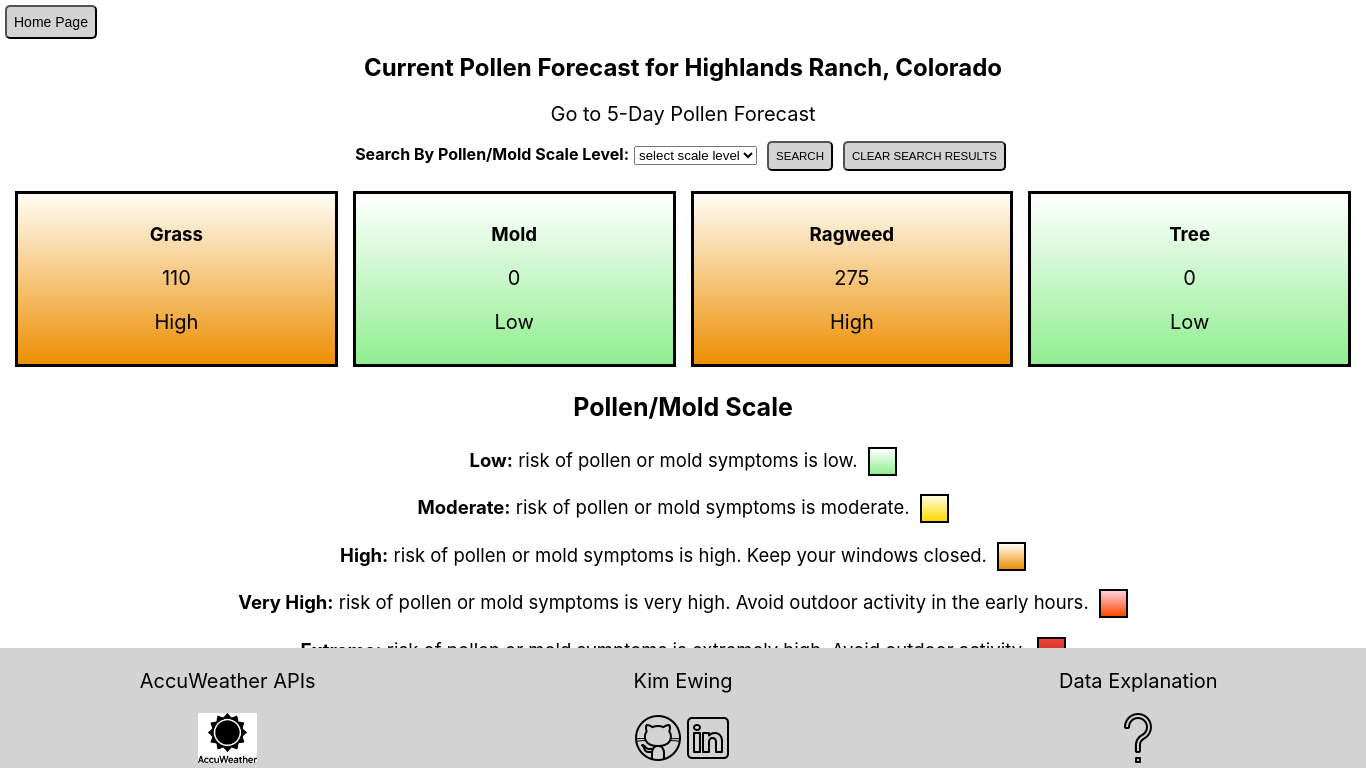
Current Pollen Forecast Page Tests › should clear the search results when the clear search button is clicked and display four current pollen cards
The width and height of the screenshot is (1366, 768).
Select "Low" in the dropdown with class "drop-down": point(696, 156) [634, 146, 757, 165]
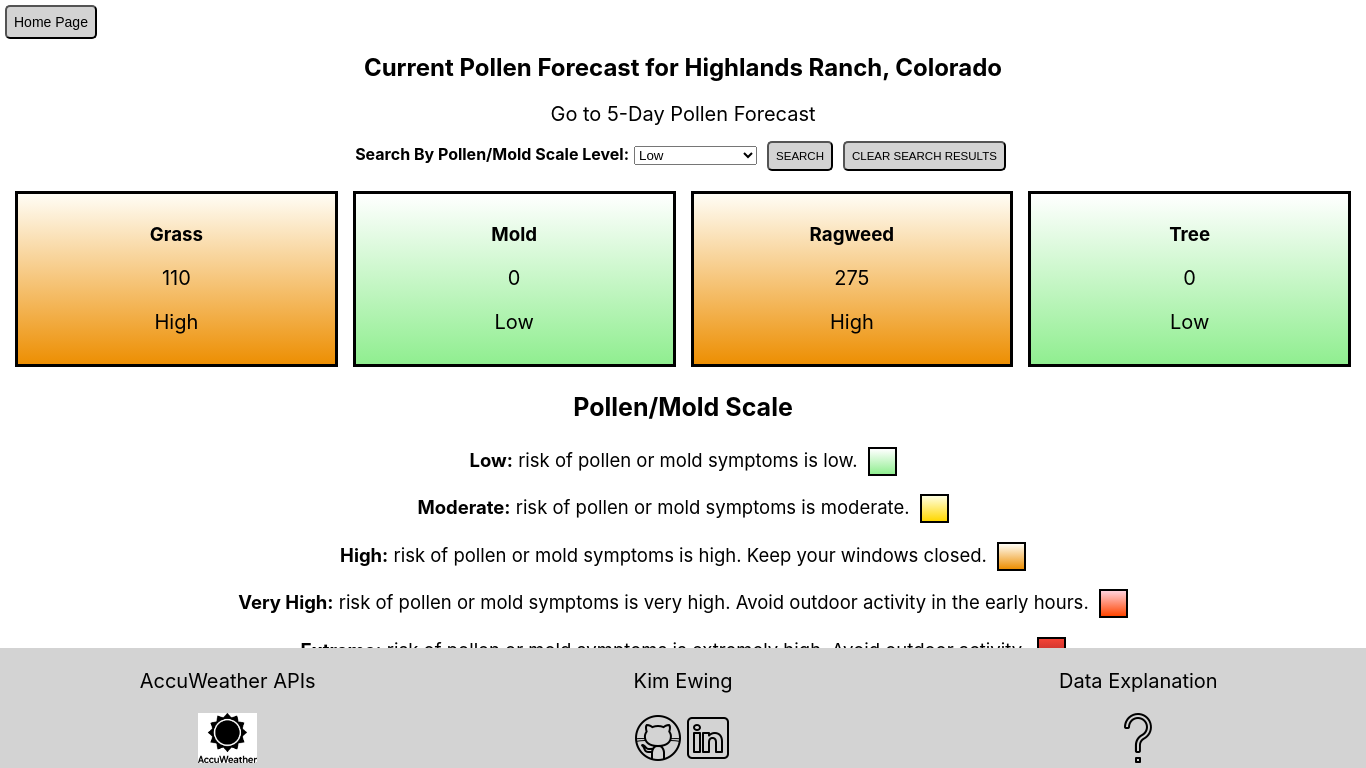
Click the button with class "search-button": point(800, 156) [767, 141, 833, 171]
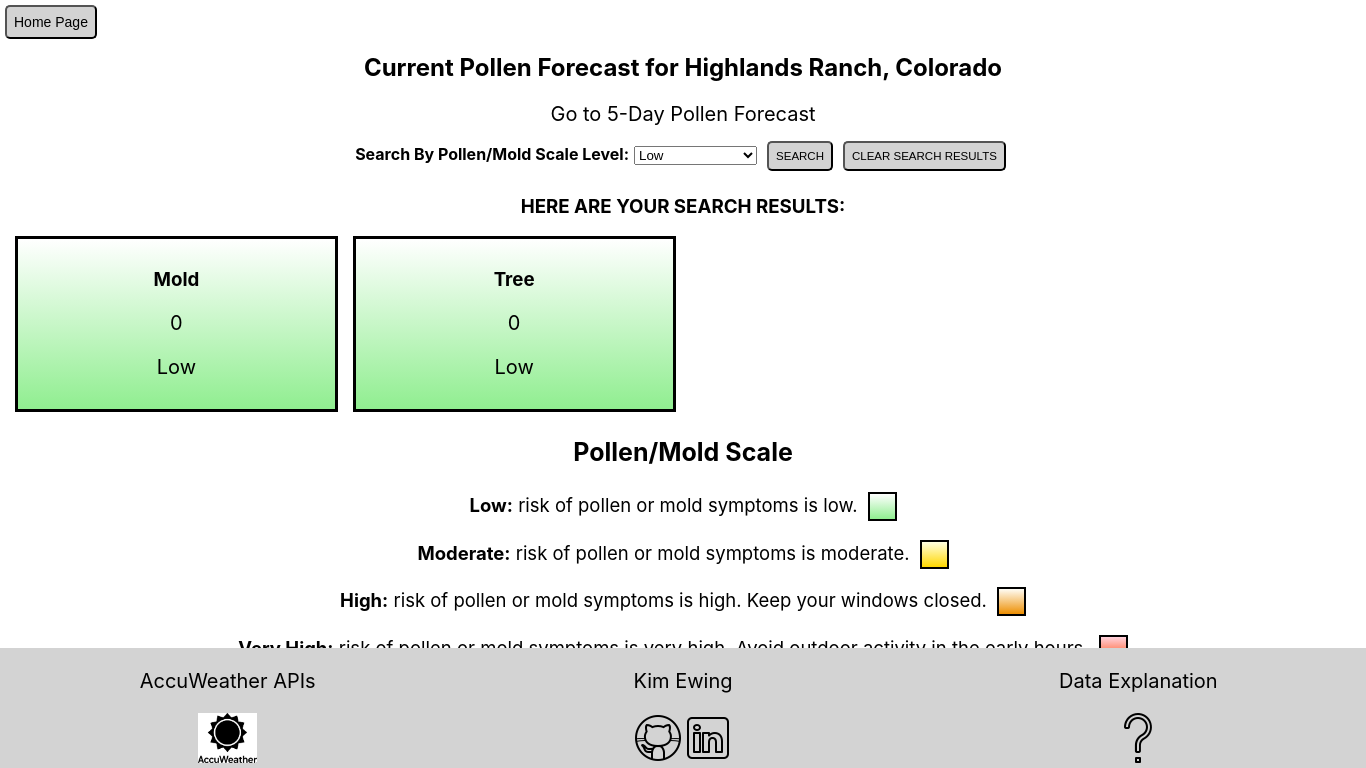
Result: the number of elements with class "search-result-pollen-forecast-card-current-forecast" is 2 at [15, 236, 338, 412]; [353, 236, 676, 412]
Click the button with class "clear-search-results-button": point(925, 156) [843, 141, 1006, 171]
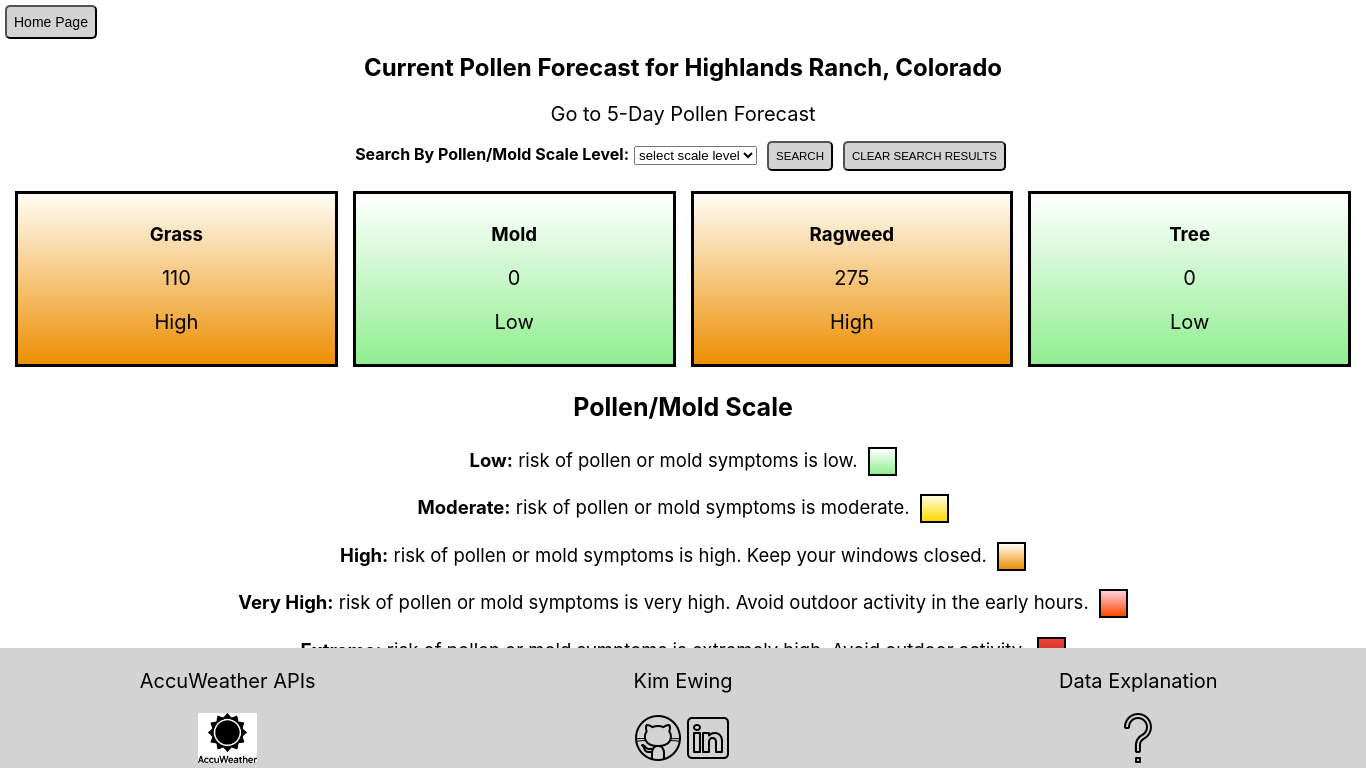
Result: no elements with class "search-result-pollen-forecast-card-current-forecast" are shown
